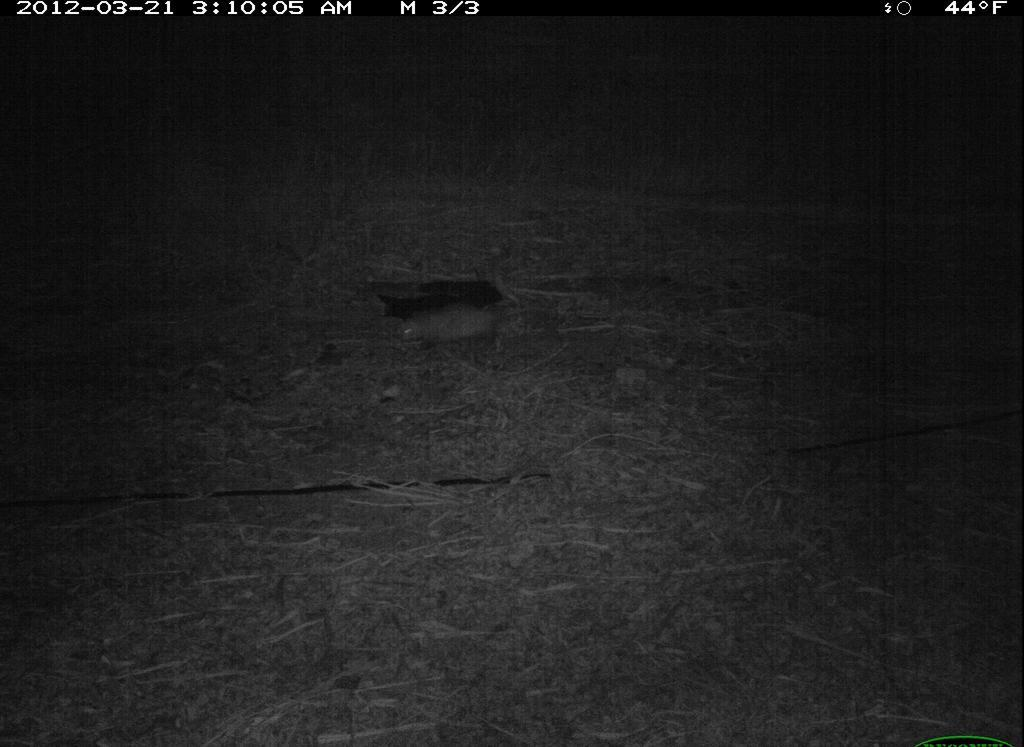opossum: (393, 293, 506, 362)
